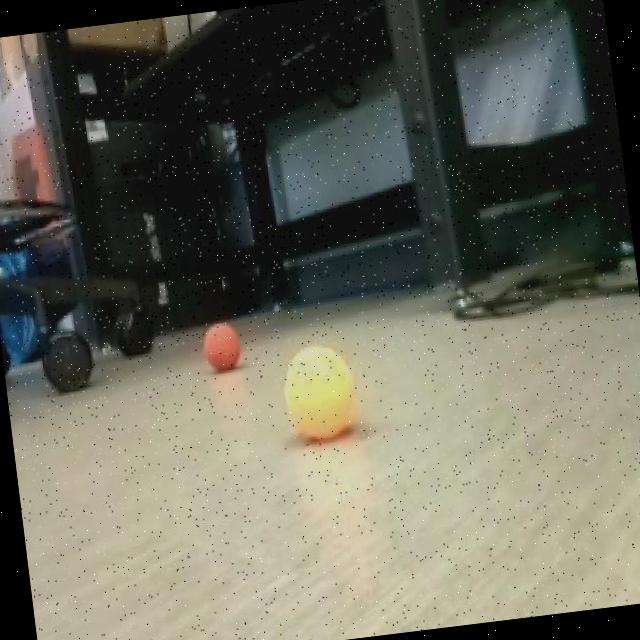ping-pong-ball: (277, 336, 360, 446), (199, 318, 241, 376)
